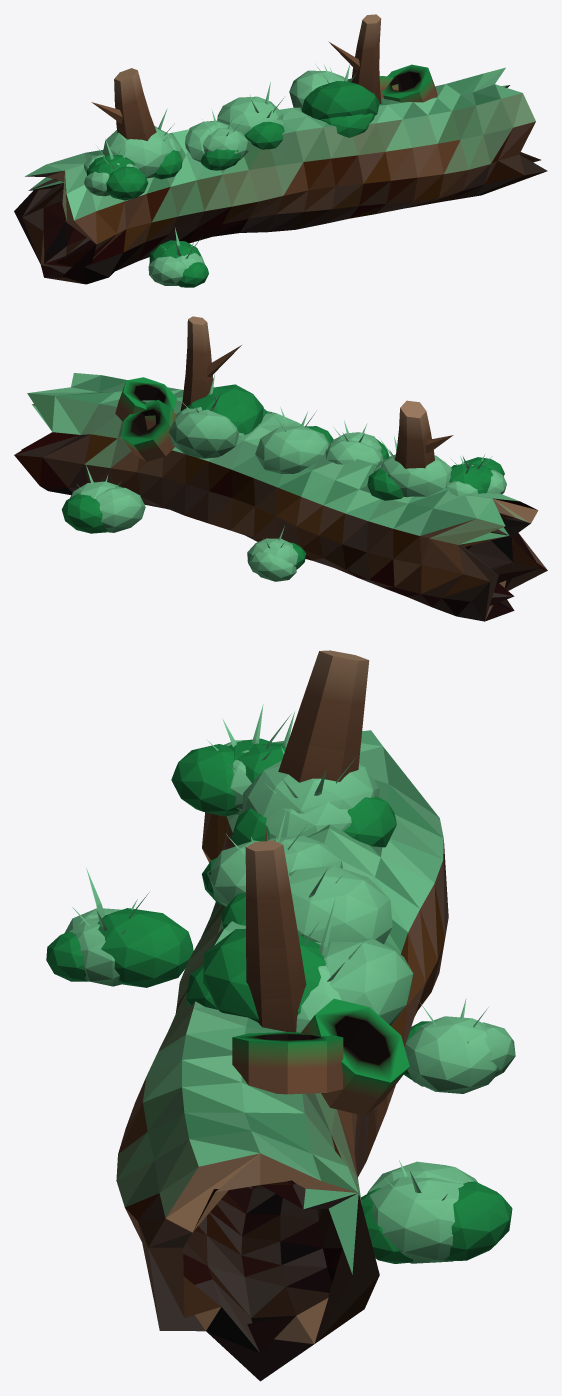
Rendered from pohon_tumbang_hollow_rainforest_517077 (4).glb.
3 renders of one model, top to bottom at view 1: azimuth 30°, elevation 25°; view 2: azimuth 150°, elevation 25°; view 3: azimuth 270°, elevation 25°, orthographic. The views are drawn at different scales.
Parts seen in each view (by area): view 1: Batang_Pohon_Berlubang; view 2: Batang_Pohon_Berlubang; view 3: Batang_Pohon_Berlubang.
Part boxes in pixels (x1,y1,x2,y2): Batang_Pohon_Berlubang: (14, 14, 547, 287); Batang_Pohon_Berlubang: (14, 316, 547, 621); Batang_Pohon_Berlubang: (46, 650, 515, 1381).
Bounding box in the file's own units: 7.56 × 3.05 × 3.25.
